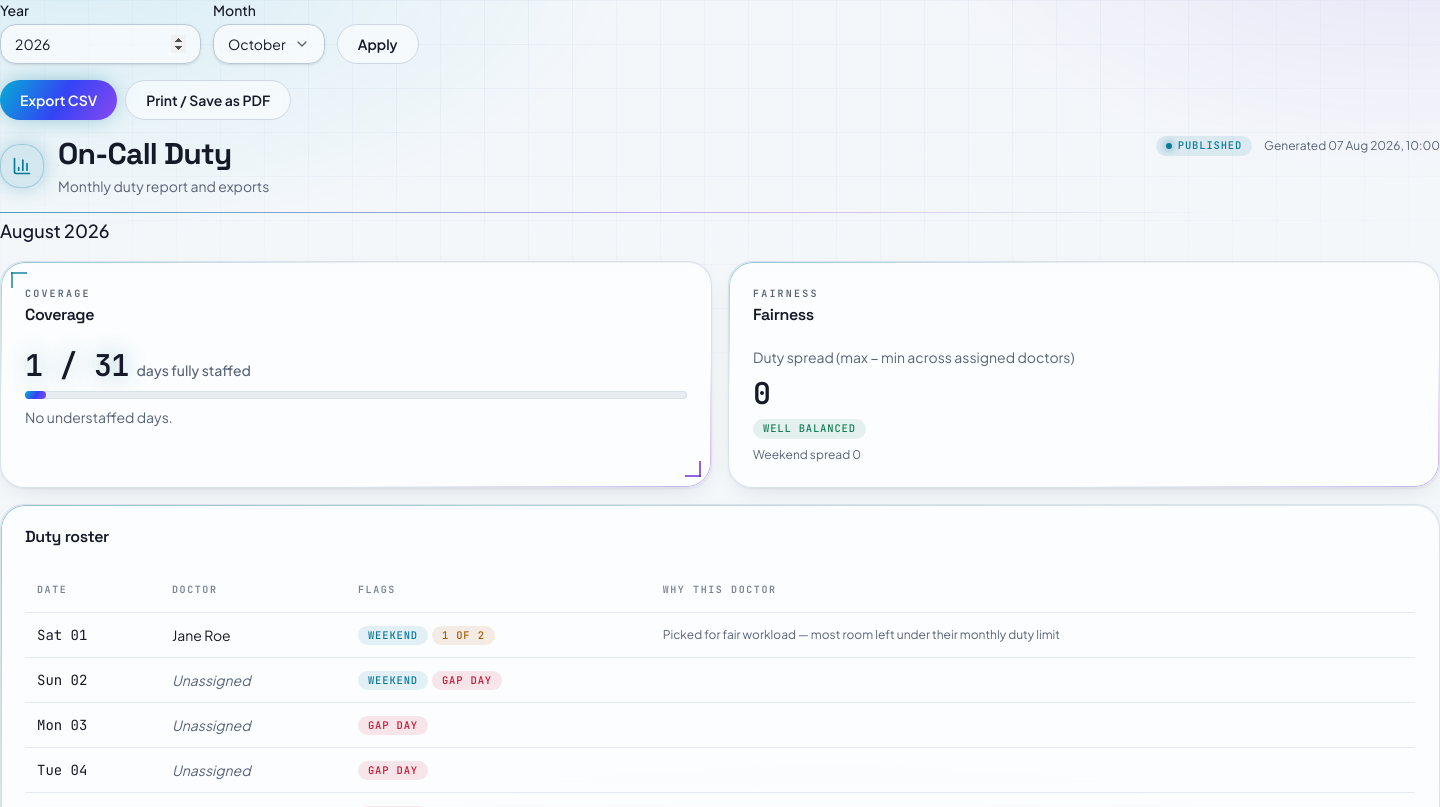
Test case: ReportsPage › clears the report when a load fails (M9)
The width and height of the screenshot is (1440, 807).
Step 1. Click the button "Apply" → click(378, 44), box [337,24,419,64]
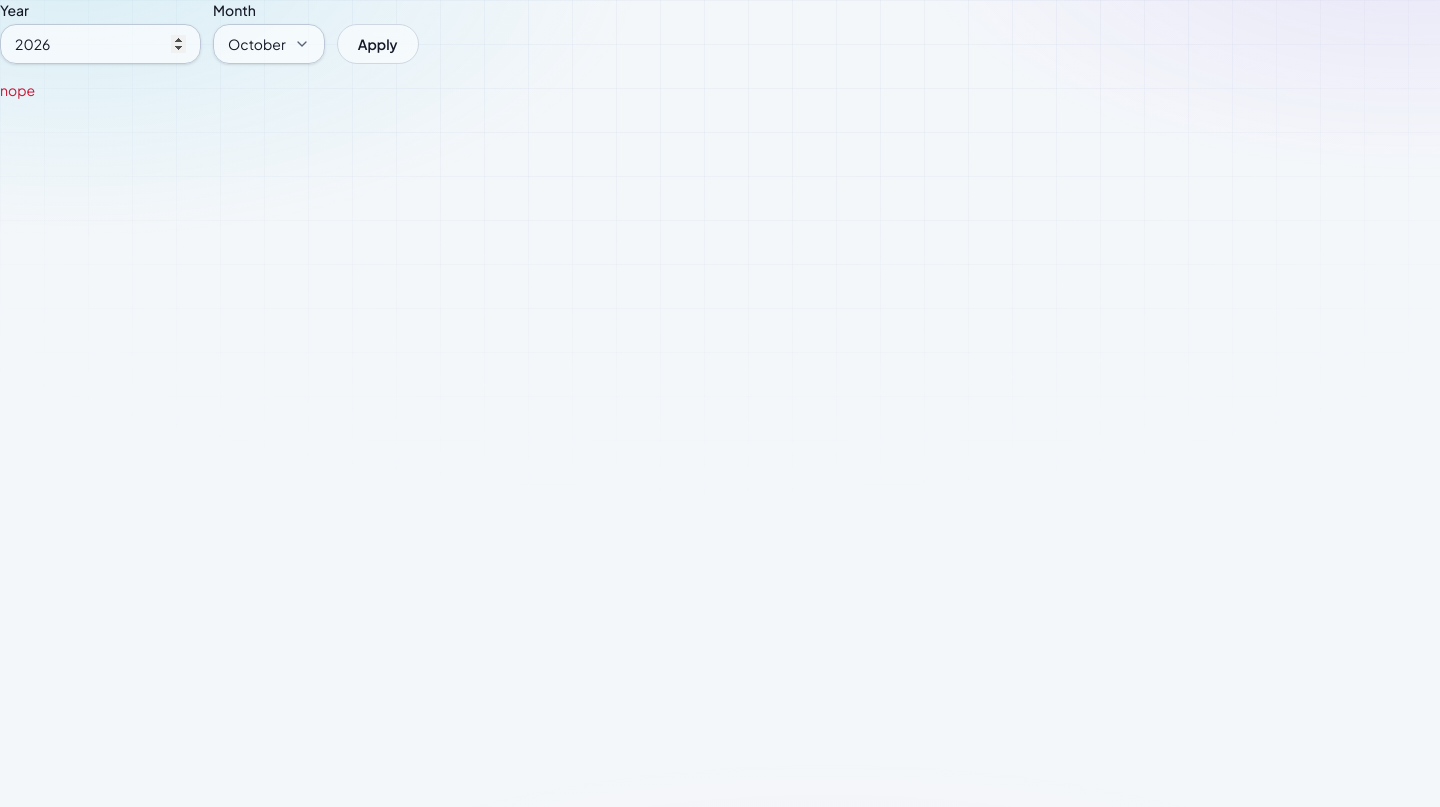
Check: the text "nope" is shown, box [0,81,35,99]
Check: the text "Jane Roe" is gone
